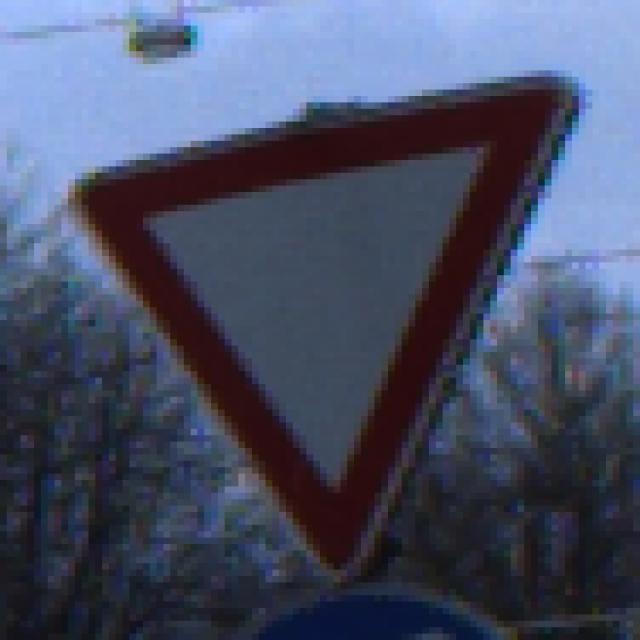Give Way: (56, 59, 587, 590)
